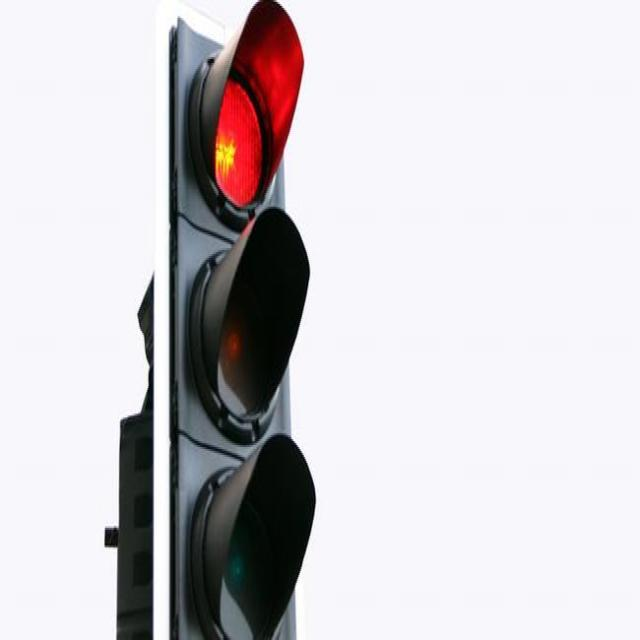red_light: (177, 8, 304, 640)
